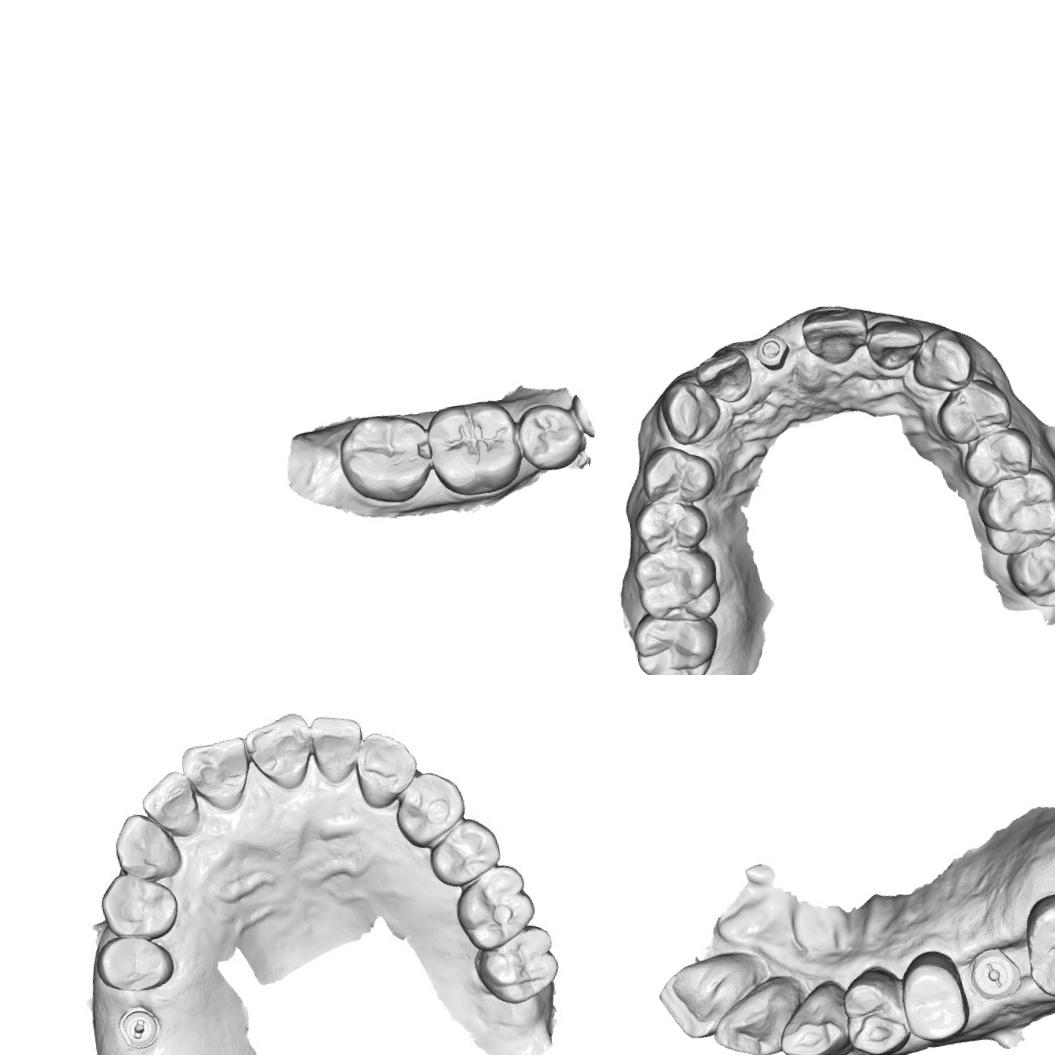canine: (107, 806, 187, 888), (771, 979, 854, 1055), (352, 729, 420, 811), (905, 324, 977, 398), (656, 374, 724, 448)
implant: (752, 330, 792, 374)
implant_minus: (114, 998, 177, 1055), (968, 945, 1021, 1002)
incisor: (654, 950, 765, 1046), (702, 977, 799, 1055), (182, 736, 253, 810), (244, 712, 312, 789), (798, 302, 872, 370), (690, 344, 756, 408), (307, 710, 364, 784), (861, 313, 928, 374), (140, 770, 199, 836)
molar: (424, 394, 528, 501), (336, 410, 438, 512), (449, 858, 550, 955), (466, 921, 566, 1011), (630, 540, 724, 630), (972, 463, 1055, 559), (627, 602, 725, 675), (1015, 882, 1055, 1005), (1001, 521, 1055, 612)
premolar: (894, 947, 974, 1045), (88, 869, 188, 944), (421, 812, 508, 894), (837, 963, 913, 1055), (389, 764, 472, 848), (92, 926, 182, 1002), (931, 374, 1016, 448), (637, 438, 720, 512), (512, 398, 588, 475), (958, 424, 1038, 492), (630, 494, 712, 558)
